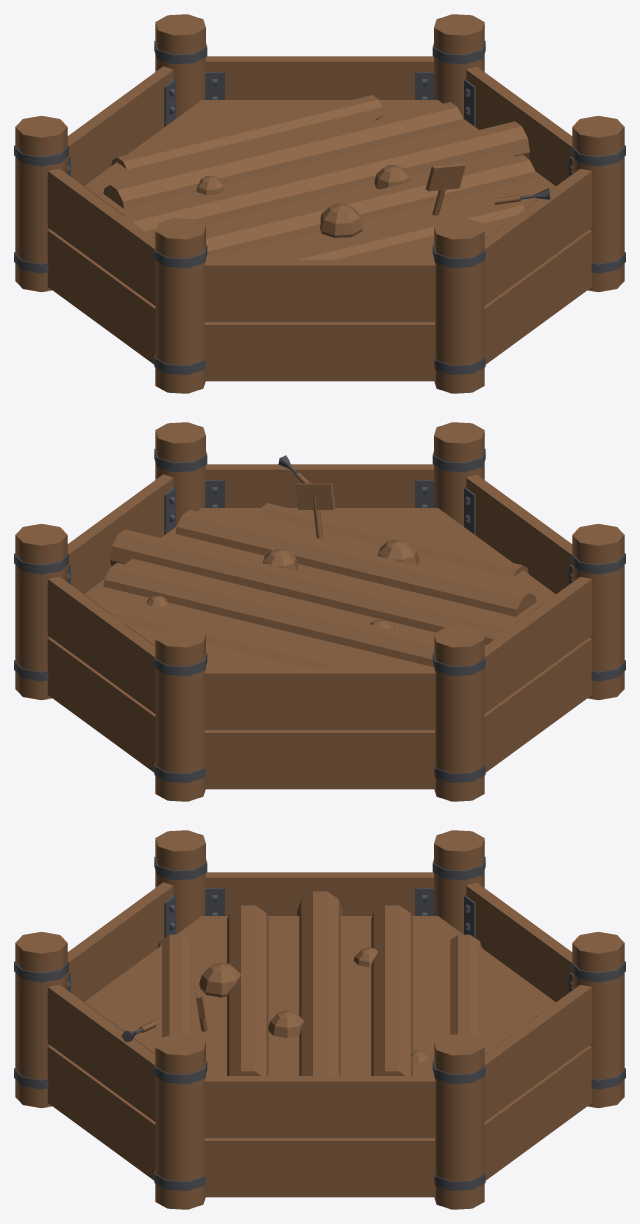
File: crop-plot.glb
3 renders of one model, top to bottom at view 1: azimuth 30°, elevation 25°; view 2: azimuth 150°, elevation 25°; view 3: azimuth 270°, elevation 25°, orthographic.
Parts seen in each view (by area): view 1: Mesh_TilledSoil, Mesh_PlankTop_2, Mesh_PlankBottom_2, Mesh_PlankTop_5, Mesh_Post_1, Mesh_Post_2, Mesh_PlankTop_3, Mesh_PlankTop_1, Mesh_PlankBottom_1, Mesh_PlankBottom_3, Mesh_Post_0, Mesh_Post_3 (+13 smaller); view 2: Mesh_TilledSoil, Mesh_PlankTop_4, Mesh_PlankBottom_4, Mesh_PlankTop_1, Mesh_Post_3, Mesh_Post_4, Mesh_PlankTop_3, Mesh_PlankTop_5, Mesh_PlankBottom_3, Mesh_PlankBottom_5, Mesh_Post_2, Mesh_Post_5 (+13 smaller); view 3: Mesh_TilledSoil, Mesh_PlankTop_0, Mesh_PlankBottom_0, Mesh_Post_0, Mesh_Post_5, Mesh_PlankTop_3, Mesh_PlankTop_5, Mesh_PlankTop_1, Mesh_PlankBottom_1, Mesh_PlankBottom_5, Mesh_Post_1, Mesh_Post_4 (+12 smaller).
Boxes of the visible parts, x1,y1,x2,y2 form: Mesh_TilledSoil: (84,95,555,259); Mesh_PlankTop_2: (204,260,435,321); Mesh_PlankBottom_2: (204,322,435,381); Mesh_PlankTop_5: (206,56,433,99); Mesh_Post_1: (434,218,484,393); Mesh_Post_2: (155,218,205,393); Mesh_PlankTop_3: (47,169,155,305); Mesh_PlankTop_1: (484,169,592,305); Mesh_PlankBottom_1: (484,230,592,364); Mesh_PlankBottom_3: (47,230,155,364); Mesh_Post_0: (572,115,624,292); Mesh_Post_3: (15,115,67,292); Mesh_TilledSoil: (84,503,555,667); Mesh_PlankTop_4: (204,668,435,729); Mesh_PlankBottom_4: (204,730,435,789); Mesh_PlankTop_1: (206,464,433,507); Mesh_Post_3: (434,626,484,801); Mesh_Post_4: (155,626,205,801); Mesh_PlankTop_3: (484,577,592,713); Mesh_PlankTop_5: (47,577,155,713); Mesh_PlankBottom_3: (484,638,592,772); Mesh_PlankBottom_5: (47,638,155,772); Mesh_Post_2: (572,523,624,700); Mesh_Post_5: (15,523,67,700); Mesh_TilledSoil: (84,891,555,1075); Mesh_PlankTop_0: (204,1076,435,1137); Mesh_PlankBottom_0: (204,1138,435,1197); Mesh_Post_0: (155,1034,205,1209); Mesh_Post_5: (434,1034,484,1209); Mesh_PlankTop_3: (206,872,433,915); Mesh_PlankTop_5: (484,985,592,1121); Mesh_PlankTop_1: (47,985,155,1121); Mesh_PlankBottom_1: (47,1046,155,1180); Mesh_PlankBottom_5: (484,1046,592,1180); Mesh_Post_1: (15,931,67,1108); Mesh_Post_4: (572,931,624,1108).
Bounding box in the file's own units: 1.63 × 0.52 × 1.87.
